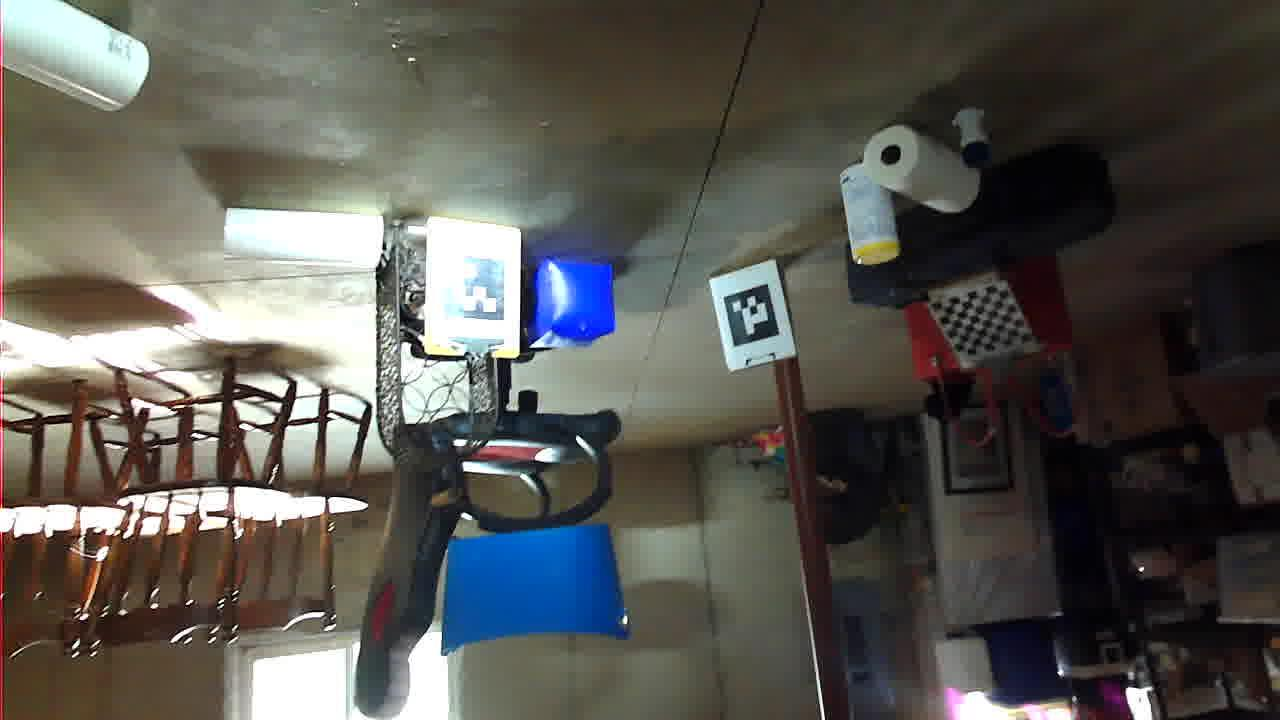coral: (1132, 608, 1275, 720), (896, 451, 1055, 512)
